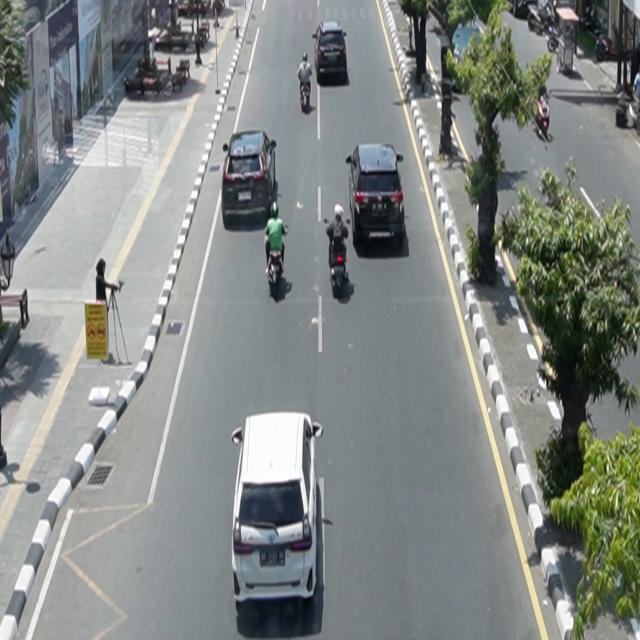car: (231, 411, 325, 607), (346, 143, 407, 248), (222, 130, 278, 228), (313, 20, 349, 85)
